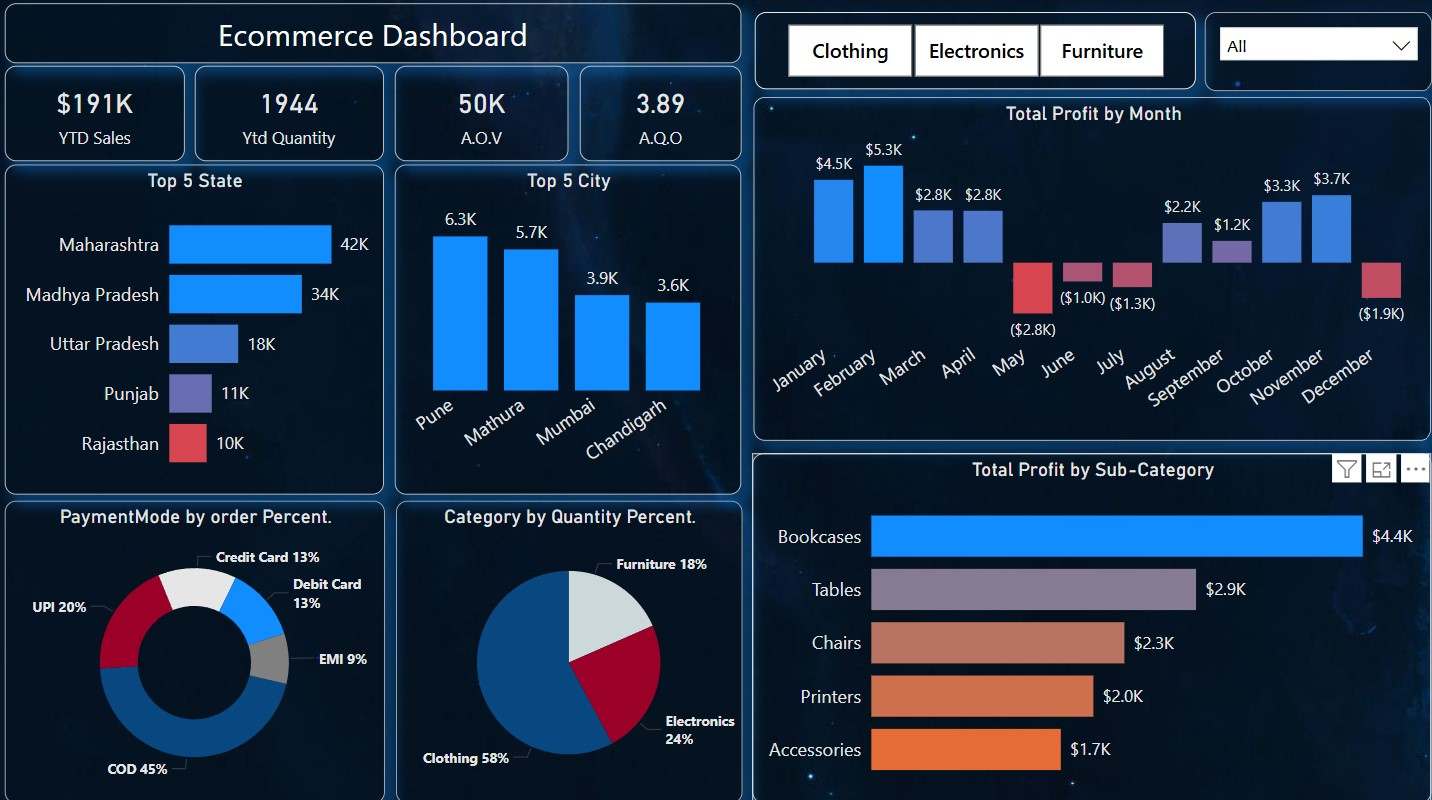

This screenshot's page, from the dashboard's own definition file:
{"tool":"powerbi","page":{"name":"Page 1","canvas":[1280,720],"ordinal":0},"visuals":[{"type":"pieChart","title":"Category by Quantity Percent.","fields":{"Category":["Details.Category"],"Y":["Sum(Details.Quantity)"]},"box":[355.9,443.1,304.5,266.3],"z":1000},{"type":"donutChart","title":"PaymentMode by order Percent.","fields":{"Y":["Details.total order"],"Category":["Details.PaymentMode"]},"box":[11.9,443.1,334.4,266.3],"z":2000},{"type":"columnChart","title":"Top 5 City","fields":{"Category":["Details.City"],"Y":["Sum(Details.Amount)"]},"box":[355.7,147.5,304.9,290],"z":3000},{"type":"barChart","title":"Top 5 State","fields":{"Category":["Details.State"],"Y":["Sum(Details.Amount)"]},"box":[12.4,147.5,333.4,290],"z":4000},{"type":"columnChart","title":"Total Profit by Month","fields":{"Category":["calender.Date.Variation.Date Hierarchy.Month"],"Y":["Sum(Details.Profit)"]},"box":[671.2,88.4,597.1,302.1],"z":5000},{"type":"barChart","title":"Total Profit by Sub-Category","fields":{"Category":["Details.Sub-Category"],"Y":["Sum(Details.Profit)"]},"box":[670,401.3,598.3,308.1],"z":6000},{"type":"slicer","fields":{"Values":["Details.Category"]},"box":[671.7,13.6,387.9,68.2],"z":7000},{"type":"slicer","fields":{"Values":["Details.City"]},"box":[1067.7,13.1,200.6,69.3],"z":8000},{"type":"textbox","box":[12.4,5,648.2,53],"z":13000},{"type":"card","fields":{"Values":["Details.YTD Sales"]},"box":[12.4,60.7,158.6,84.3],"z":13001},{"type":"card","fields":{"Values":["Details.Ytd Quantity"]},"box":[179.7,60.7,166.1,84.3],"z":13002},{"type":"card","fields":{"Values":["Sum(Details.A.o.V)"]},"box":[355.7,60.7,152.4,84.3],"z":13003},{"type":"card","fields":{"Values":["Details.average qua/order"]},"box":[518,60.7,142.5,84.3],"z":13004},{"type":"actionButton","box":[0,0,100,40],"z":13005}]}

Visuals, with their boxes in screenshot pixels (x1, y1, x2, y2), scaled from the page's 1280x720 canvas onto the 1432x800 screenshot:
"Category by Quantity Percent." pieChart: 398, 492, 739, 788
"PaymentMode by order Percent." donutChart: 13, 492, 387, 788
"Top 5 City" columnChart: 398, 164, 739, 486
"Top 5 State" barChart: 14, 164, 387, 486
"Total Profit by Month" columnChart: 751, 98, 1419, 434
"Total Profit by Sub-Category" barChart: 750, 446, 1419, 788
slicer - Details.Category: 751, 15, 1185, 91
slicer - Details.City: 1194, 15, 1419, 92
textbox: 14, 6, 739, 64
card - Details.YTD Sales: 14, 67, 191, 161
card - Details.Ytd Quantity: 201, 67, 387, 161
card - Sum(Details.A.o.V): 398, 67, 568, 161
card - Details.average qua/order: 580, 67, 739, 161
actionButton: 0, 0, 112, 44
